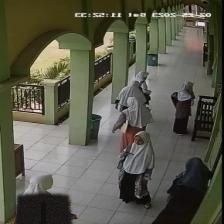Cadar_Niqab: (14, 173, 71, 224)
